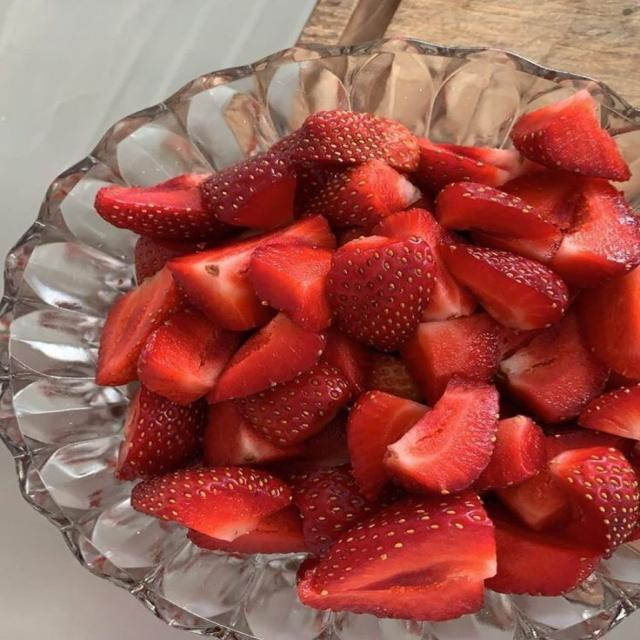strawberry sliced: (299, 493, 495, 620), (168, 216, 334, 330), (385, 379, 498, 494), (329, 236, 433, 351), (132, 467, 292, 541), (500, 314, 608, 422), (374, 209, 476, 321), (441, 244, 567, 329), (512, 90, 630, 180), (207, 314, 326, 403), (96, 268, 183, 386), (487, 506, 599, 596), (139, 308, 239, 405), (550, 180, 639, 287), (550, 447, 639, 554), (237, 362, 350, 446), (291, 466, 393, 556), (95, 175, 229, 241), (347, 391, 428, 499), (401, 314, 499, 403), (116, 386, 206, 479), (436, 182, 561, 246), (289, 111, 419, 171), (306, 160, 419, 227), (201, 150, 296, 228), (249, 245, 332, 331), (577, 268, 639, 379), (202, 402, 306, 466), (188, 505, 307, 554), (474, 416, 546, 490), (415, 138, 511, 191), (501, 170, 585, 230), (501, 170, 584, 230), (497, 470, 571, 531), (274, 414, 349, 473), (579, 385, 639, 439), (134, 237, 204, 283), (323, 329, 370, 394), (471, 231, 561, 264), (546, 427, 633, 460), (439, 144, 530, 175), (367, 352, 422, 401), (545, 429, 626, 460), (294, 163, 341, 213), (498, 325, 543, 360), (157, 173, 210, 189), (337, 227, 373, 246), (606, 371, 639, 390), (407, 194, 434, 214)
